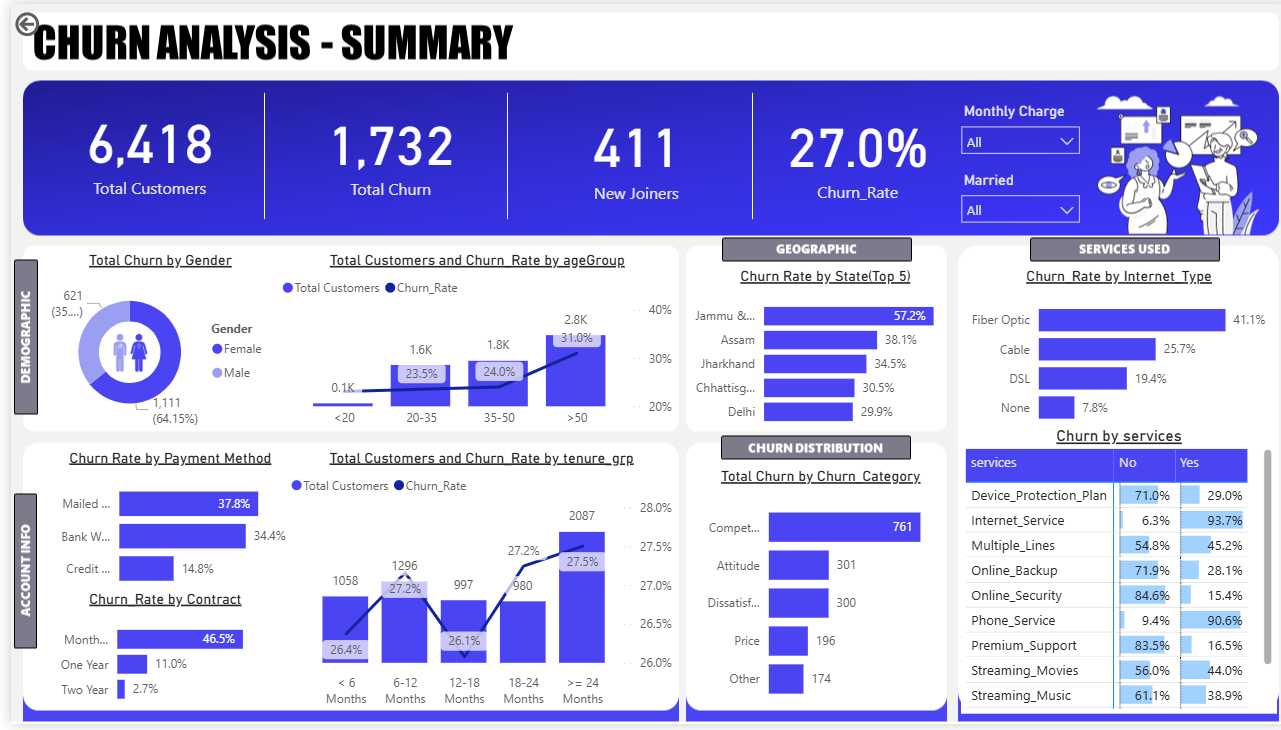

Layout of this report page (visuals, bound fields, positions):
{"tool":"powerbi","page":{"name":"summary","canvas":[1280,720],"ordinal":0},"visuals":[{"type":"image","box":[88.6,324.3,61.4,48.6],"z":0},{"type":"cardVisual","fields":{"Data":["TBL_measures.Total Customers"]},"box":[24,78,230,148],"z":1000},{"type":"cardVisual","fields":{"Data":["TBL_measures.Total Churn"]},"box":[254,78,252,150],"z":2000},{"type":"cardVisual","fields":{"Data":["TBL_measures.New Joiners"]},"box":[506,82,238,146],"z":3000},{"type":"donutChart","fields":{"Category":["prod_Churn (2).Gender"],"Y":["TBL_measures.Total Churn"]},"box":[32.5,247.5,233.8,185],"z":4000},{"type":"actionButton","box":[0,0,32.5,40],"z":5000},{"type":"lineStackedColumnComboChart","fields":{"Y":["TBL_measures.Total Customers"],"Y2":["TBL_measures.Churn_Rate"],"Category":["mapping_agegrp.ageGroup"]},"box":[266.2,247.5,400,185],"z":6000},{"type":"cardVisual","fields":{"Data":["TBL_measures.Churn_Rate"]},"box":[743.8,82.5,206.2,145],"z":7000},{"type":"clusteredBarChart","title":"Churn Rate by Payment Method","fields":{"Category":["prod_Churn (2).Payment_Method"],"Y":["TBL_measures.Churn_Rate"]},"box":[32.5,445,253.8,151.2],"z":8000},{"type":"clusteredBarChart","fields":{"Category":["prod_Churn (2).Contract"],"Y":["TBL_measures.Churn_Rate"]},"box":[32.3,586.6,243.8,124.7],"z":9000},{"type":"lineClusteredColumnComboChart","fields":{"Y":["TBL_measures.Total Customers"],"Y2":["TBL_measures.Churn_Rate"],"Category":["prod_Churn (3).tenure_grp"]},"box":[275,445,391.2,265],"z":10000},{"type":"barChart","title":"Churn Rate by State(Top 5)","fields":{"Category":["prod_Churn (2).State"],"Y":["TBL_measures.Churn_Rate"]},"box":[666.2,263.8,296.2,168.8],"z":11000},{"type":"clusteredBarChart","fields":{"Category":["prod_Churn (2).Churn_Category"],"Y":["TBL_measures.Total Churn"]},"box":[680.4,463.3,259.4,247.3],"z":12000},{"type":"clusteredBarChart","fields":{"Category":["prod_Churn (2).Internet_Type"],"Y":["TBL_measures.Churn_Rate"]},"box":[950,263.8,316.2,168.8],"z":13000},{"type":"pivotTable","title":"Churn by services","fields":{"Rows":["prod_services.services"],"Columns":["prod_services.status"],"Values":["Sum(prod_services.CHURN STATUS)"]},"box":[950,422.5,316.2,287.5],"z":14000},{"type":"slicer","fields":{"Values":["prod_services.monthly charge status"]},"box":[940,93.8,138.8,61.2],"z":15000},{"type":"slicer","fields":{"Values":["prod_services.Married"]},"box":[940,162.5,138.8,62.5],"z":16000}]}

Visuals, with their boxes in screenshot pixels (x1, y1, x2, y2), scaled from the page's 1280x720 canvas onto the 1281x730 screenshot:
image: <bbox>89, 329, 150, 378</bbox>
cardVisual - TBL_measures.Total Customers: <bbox>24, 79, 254, 229</bbox>
cardVisual - TBL_measures.Total Churn: <bbox>254, 79, 506, 231</bbox>
cardVisual - TBL_measures.New Joiners: <bbox>506, 83, 745, 231</bbox>
donutChart - prod_Churn (2).Gender x TBL_measures.Total Churn: <bbox>33, 251, 267, 439</bbox>
actionButton: <bbox>0, 0, 33, 41</bbox>
lineStackedColumnComboChart - TBL_measures.Total Customers x TBL_measures.Churn_Rate: <bbox>266, 251, 667, 439</bbox>
cardVisual - TBL_measures.Churn_Rate: <bbox>744, 84, 951, 231</bbox>
"Churn Rate by Payment Method" clusteredBarChart: <bbox>33, 451, 287, 604</bbox>
clusteredBarChart - prod_Churn (2).Contract x TBL_measures.Churn_Rate: <bbox>32, 595, 276, 721</bbox>
lineClusteredColumnComboChart - TBL_measures.Total Customers x TBL_measures.Churn_Rate: <bbox>275, 451, 667, 720</bbox>
"Churn Rate by State(Top 5)" barChart: <bbox>667, 267, 963, 439</bbox>
clusteredBarChart - prod_Churn (2).Churn_Category x TBL_measures.Total Churn: <bbox>681, 470, 941, 720</bbox>
clusteredBarChart - prod_Churn (2).Internet_Type x TBL_measures.Churn_Rate: <bbox>951, 267, 1267, 439</bbox>
"Churn by services" pivotTable: <bbox>951, 428, 1267, 720</bbox>
slicer - prod_services.monthly charge status: <bbox>941, 95, 1080, 157</bbox>
slicer - prod_services.Married: <bbox>941, 165, 1080, 228</bbox>
